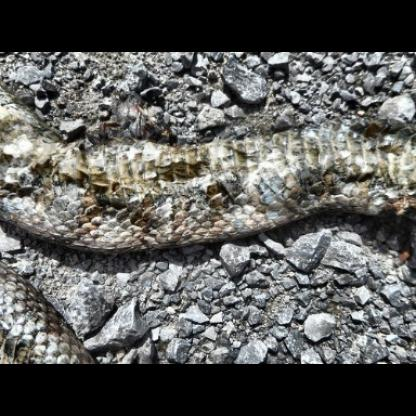Snake: (7, 63, 416, 305)
